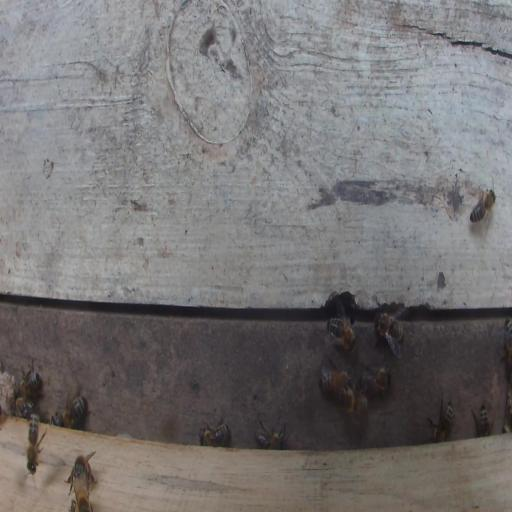nonpollenbee: (70, 454, 96, 494), (326, 318, 356, 352), (359, 368, 392, 397), (469, 189, 496, 223), (59, 396, 86, 429), (318, 371, 352, 397), (27, 410, 40, 477), (433, 402, 452, 442), (339, 387, 367, 414), (373, 313, 402, 338), (254, 429, 287, 450), (198, 425, 228, 448), (16, 371, 40, 399), (10, 396, 36, 420), (478, 404, 489, 436), (77, 492, 92, 511), (504, 320, 512, 353)
